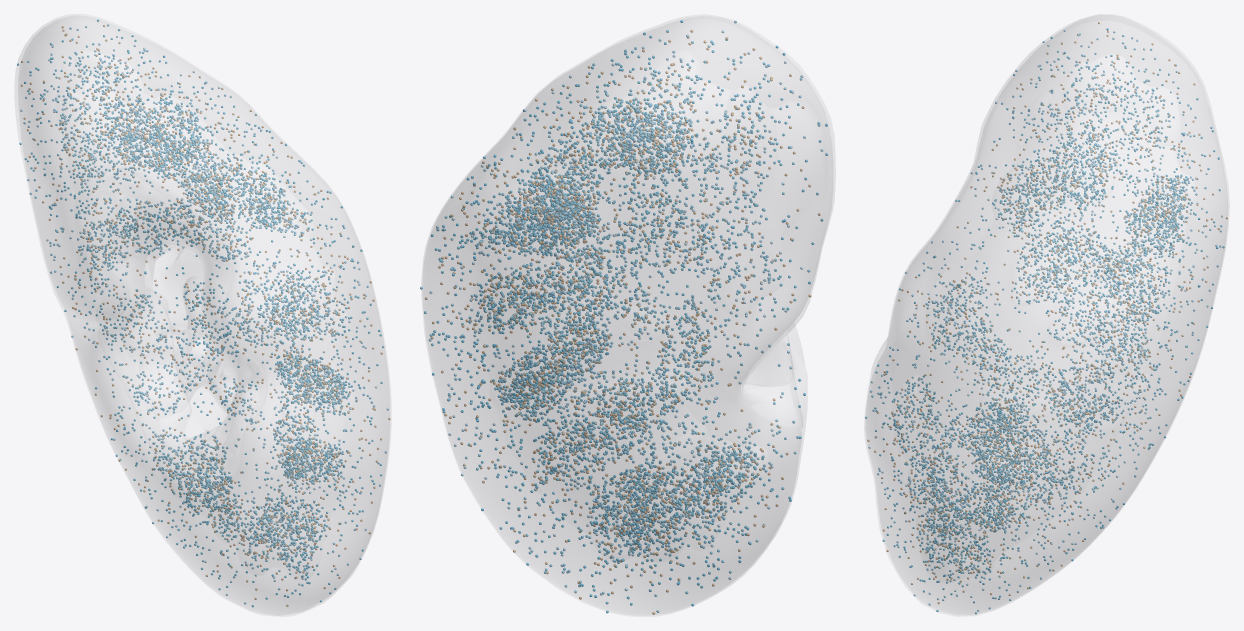
File: 3d-vh-f-kidney-l-UBERON_0004538-all-as-azimuth-sphere-hra-pop.glb
3 renders of one model, left to right at view 1: azimuth 30°, elevation 25°; view 2: azimuth 150°, elevation 25°; view 3: azimuth 270°, elevation 25°, orthographic. The views are drawn at different scales.
Visible parts, largest first — view 1: VH_F_kidney_capsule_L, VH_F_outer_cortex_of_kidney_L, VH_F_hilum_of_kidney_L, VH_F_renal_column_L, VH_F_renal_pyramid_L_g; view 2: VH_F_kidney_capsule_L, VH_F_outer_cortex_of_kidney_L, VH_F_hilum_of_kidney_L; view 3: VH_F_kidney_capsule_L, VH_F_outer_cortex_of_kidney_L.
Part boxes in pixels (x1,y1,x2,y2): VH_F_kidney_capsule_L: (15,14,390,616); VH_F_outer_cortex_of_kidney_L: (19,19,389,615); VH_F_hilum_of_kidney_L: (94,169,266,490); VH_F_renal_column_L: (147,246,229,413); VH_F_renal_pyramid_L_g: (158,276,232,411); VH_F_kidney_capsule_L: (421,14,835,616); VH_F_outer_cortex_of_kidney_L: (423,19,832,615); VH_F_hilum_of_kidney_L: (739,335,802,428); VH_F_kidney_capsule_L: (864,14,1229,616); VH_F_outer_cortex_of_kidney_L: (866,21,1227,614).
Bounding box in the file's own units: 0.0731 × 0.1249 × 0.0776.
